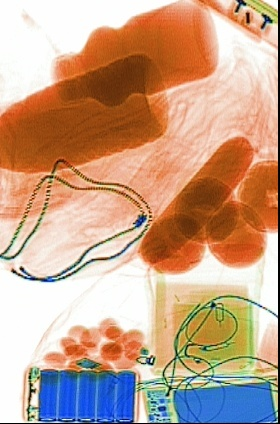powerbank: (20, 362, 137, 421)
